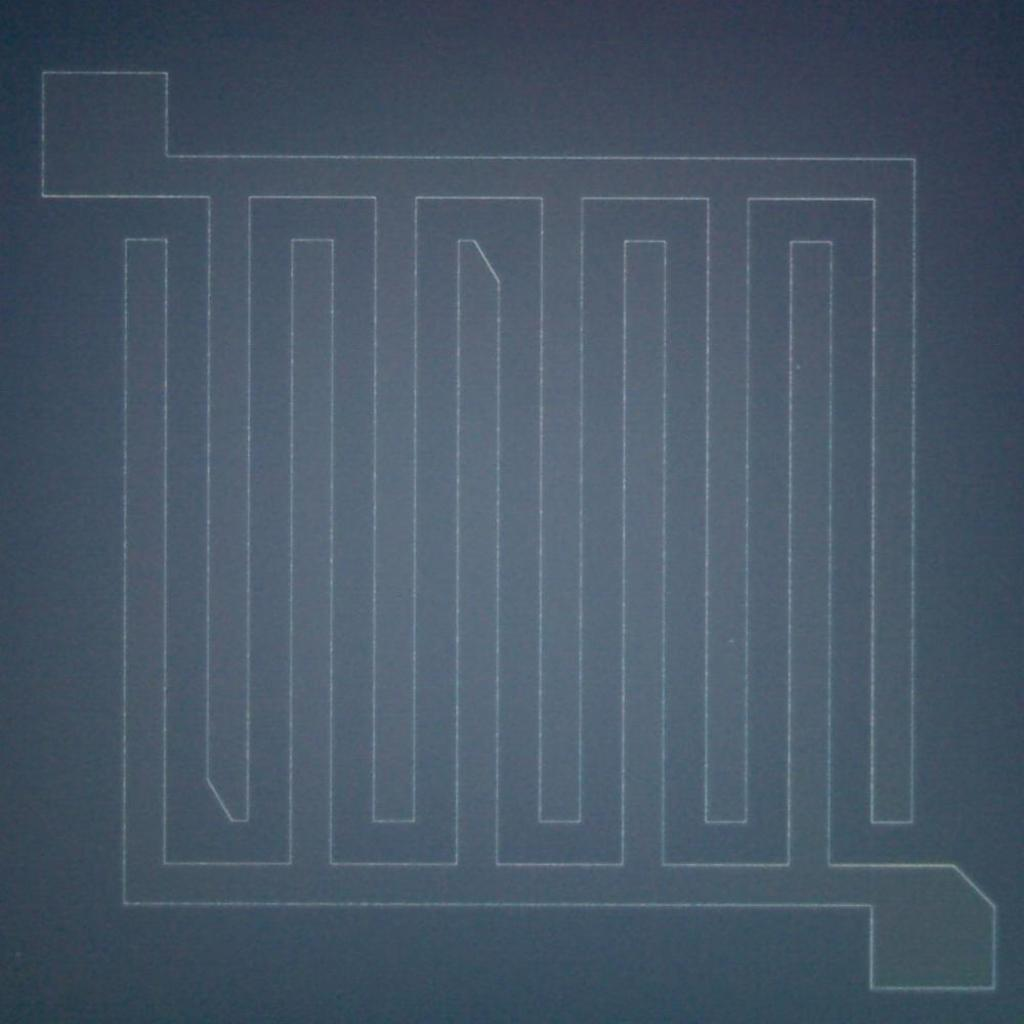edge circuit: (930, 853, 1006, 926), (195, 768, 260, 833), (449, 230, 509, 292)
